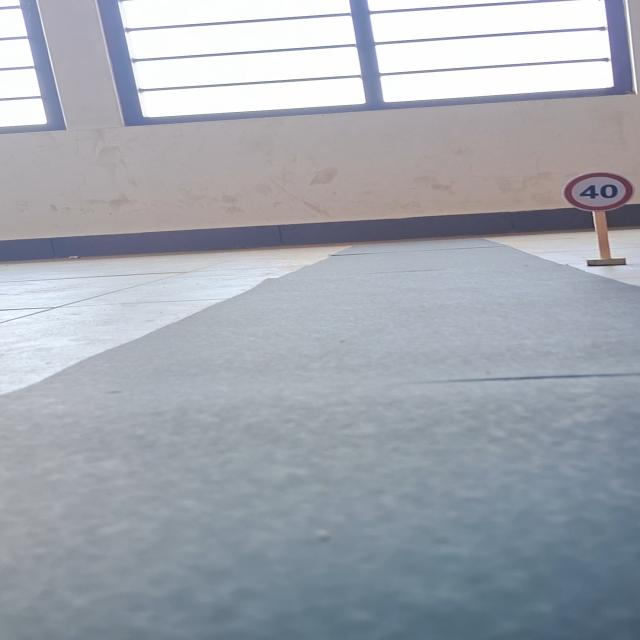Speed40: (561, 172, 634, 214)
